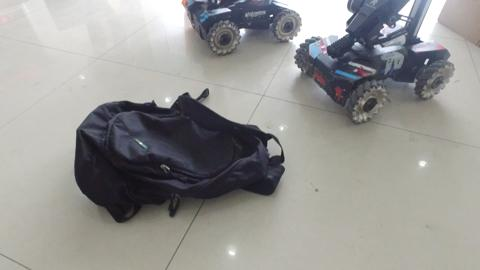bag: (75, 98, 286, 217)
chariot: (297, 1, 453, 123), (183, 1, 302, 57)
